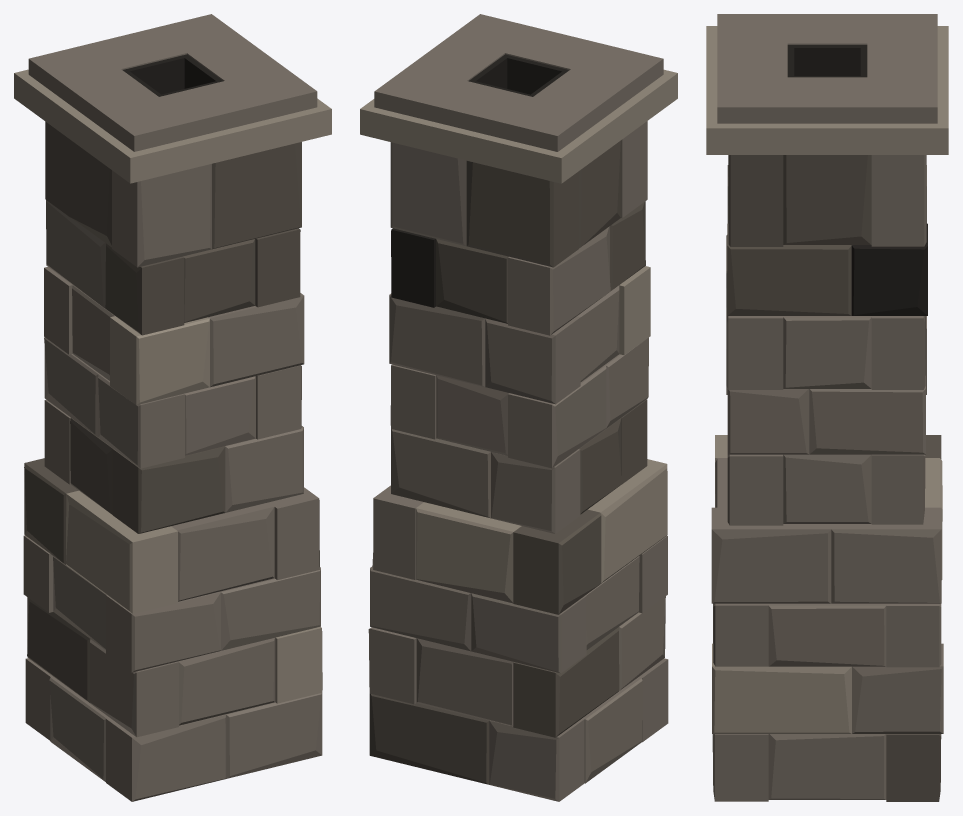
File: mdvl_village_chimney_01.glb
3 views of the same model, side by side, from view 1: azimuth 30°, elevation 25°; view 2: azimuth 150°, elevation 25°; view 3: azimuth 270°, elevation 25° (orthographic). The views are drawn at different scales.
Visible parts, largest first — view 1: mdvl_village_chimney_01; view 2: mdvl_village_chimney_01; view 3: mdvl_village_chimney_01.
Part boxes in pixels (x1,y1,x2,y2): mdvl_village_chimney_01: [14, 14, 331, 801]; mdvl_village_chimney_01: [360, 14, 677, 801]; mdvl_village_chimney_01: [706, 14, 948, 801].
Bounding box in the file's own units: 0.66 × 2.08 × 0.66.
1 material, 1 textured.
